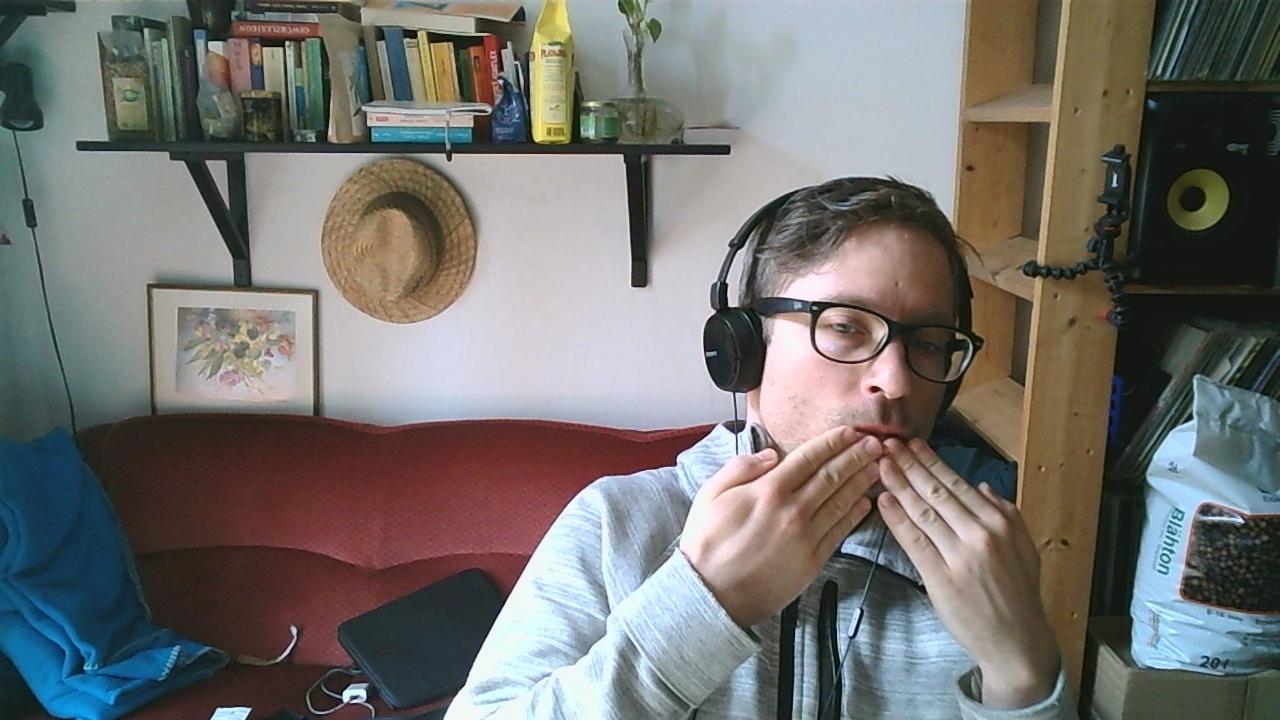thanks: (679, 420, 1045, 674)
